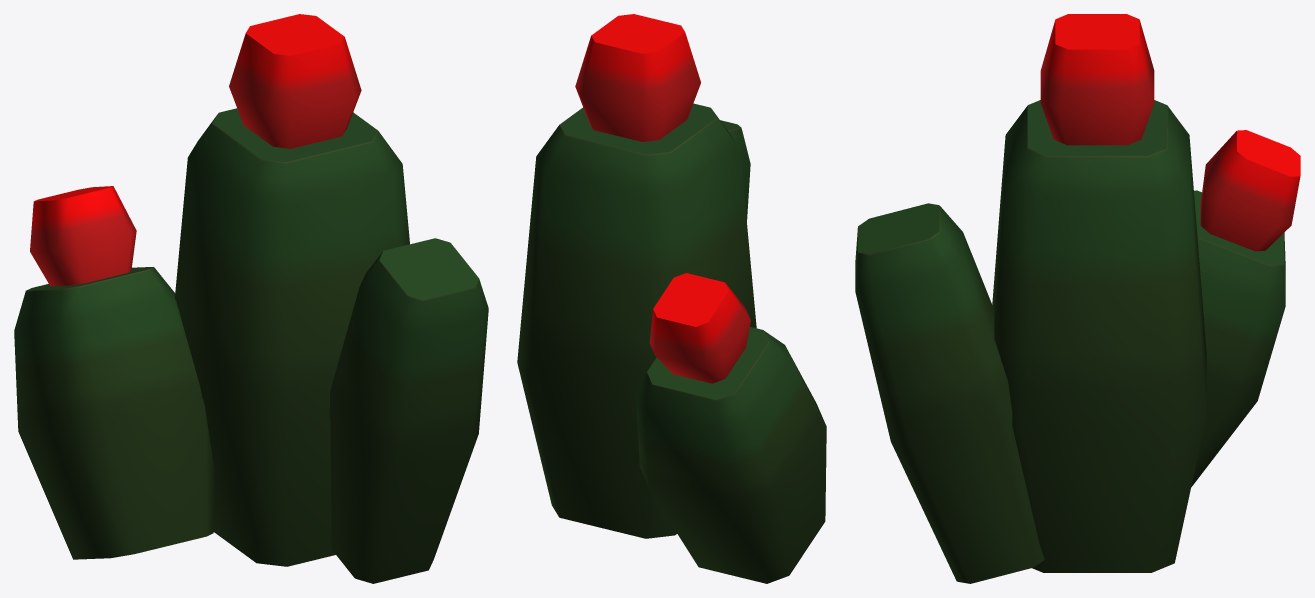
Rendered from cactus_v062.fbx.
3 views of the same model, side by side, from view 1: azimuth 30°, elevation 25°; view 2: azimuth 150°, elevation 25°; view 3: azimuth 270°, elevation 25° (orthographic). The views are drawn at different scales.
Visible parts, largest first — view 1: cactus_v062; view 2: cactus_v062; view 3: cactus_v062.
Part boxes in pixels (x1,y1,x2,y2): cactus_v062: (14,14,488,583); cactus_v062: (517,14,826,583); cactus_v062: (855,14,1300,583).
Size of the model in its own units: 114 by 182 by 140.
